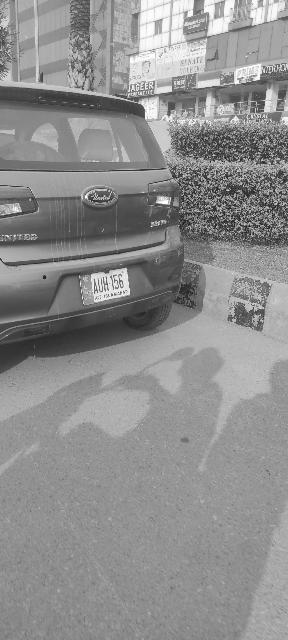Number: (90, 271, 127, 296)
